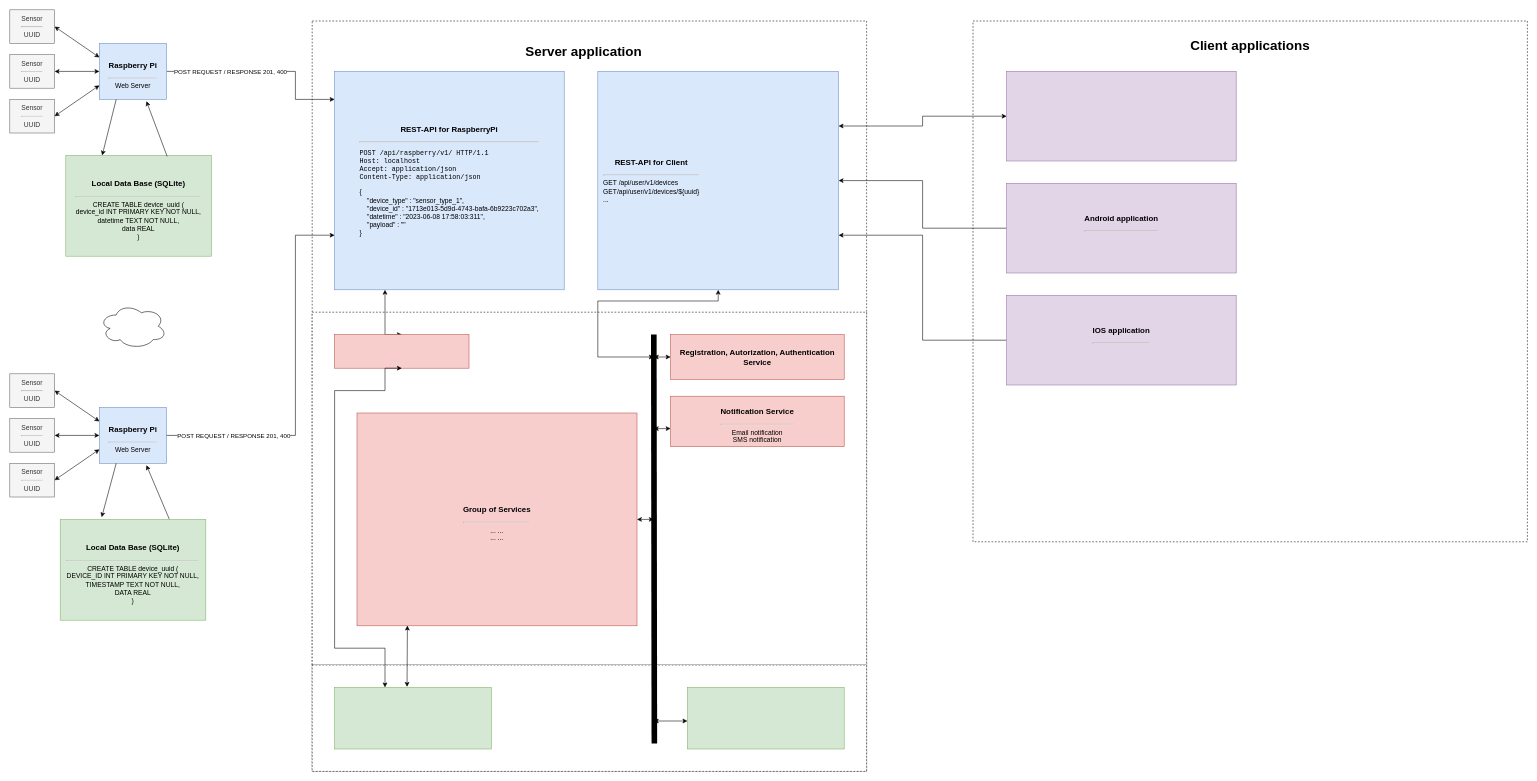
This 1537x781 diagram has some shape labels left out. The shapes that lost their labels are listed below. From the top down, each one's centre as x and y in pixels, then its label:
At (x=1121, y=116): "VUEJS web application".
At (x=401, y=351): "Sensor Data Validation Service".
At (x=412, y=718): "Global Data Base ( Timescale )".
At (x=765, y=718): "Global Data Base (PostgreSQL)".
